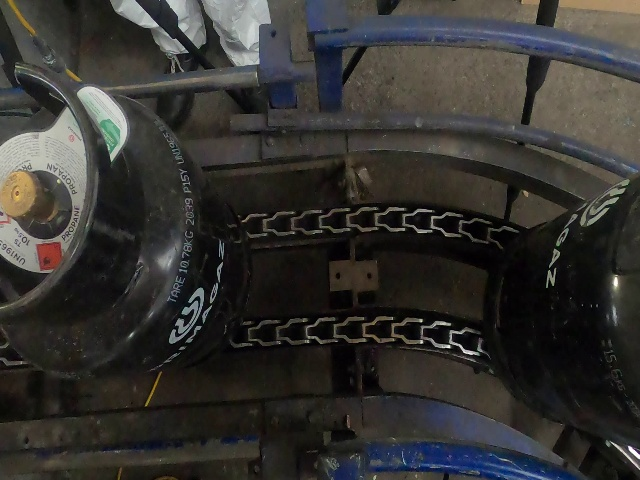gas_bottle: (4, 1, 640, 480)
